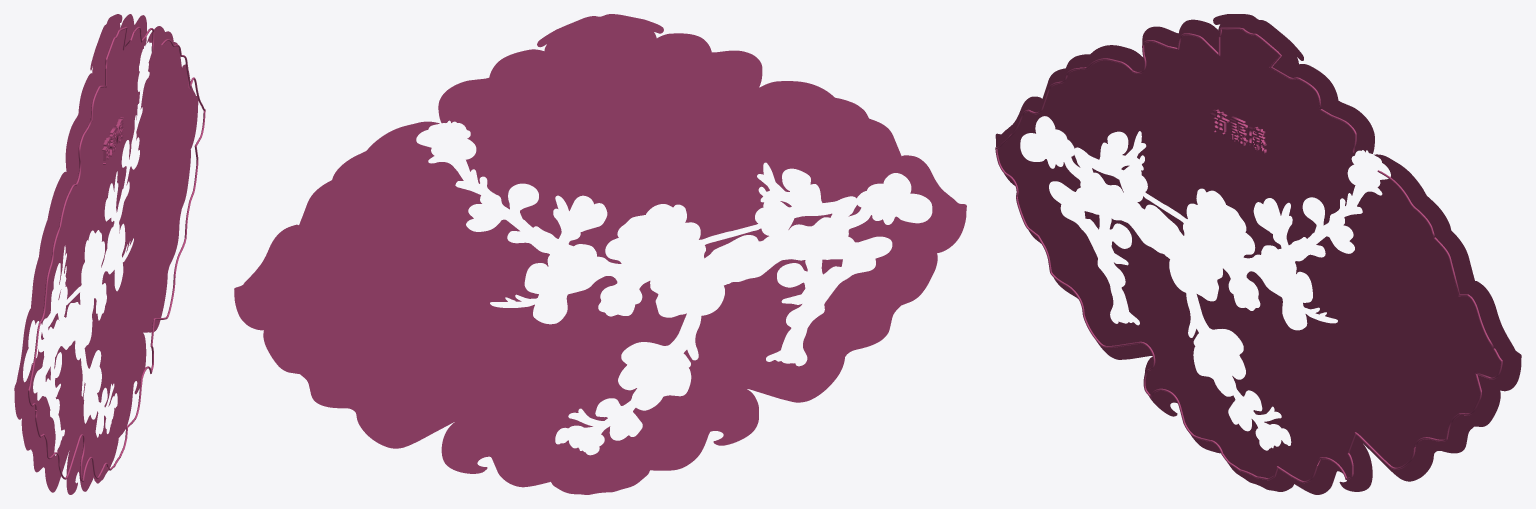
File: purple2_engraved_metalflwr.glb
The picture shows the model from 3 angles, left to right: view 1: azimuth 30°, elevation 25°; view 2: azimuth 150°, elevation 25°; view 3: azimuth 270°, elevation 25°; orthographic projection. The views are drawn at different scales.
Visible parts, largest first — view 1: MA_Artboard 2.svg, Curve, WORDS; view 2: MA_Artboard 2.svg; view 3: MA_Artboard 2.svg, Curve, WORDS.
Boxes of the visible parts, x1=… form: MA_Artboard 2.svg: x1=14, y1=14, x2=198, y2=494; Curve: x1=28, y1=26, x2=205, y2=481; WORDS: x1=102, y1=116, x2=123, y2=164; MA_Artboard 2.svg: x1=234, y1=14, x2=966, y2=494; MA_Artboard 2.svg: x1=995, y1=14, x2=1521, y2=494; Curve: x1=995, y1=27, x2=1502, y2=483; WORDS: x1=1210, y1=109, x2=1266, y2=154.
Size of the model in its own units: 1.32 by 1.3 by 1.33.
